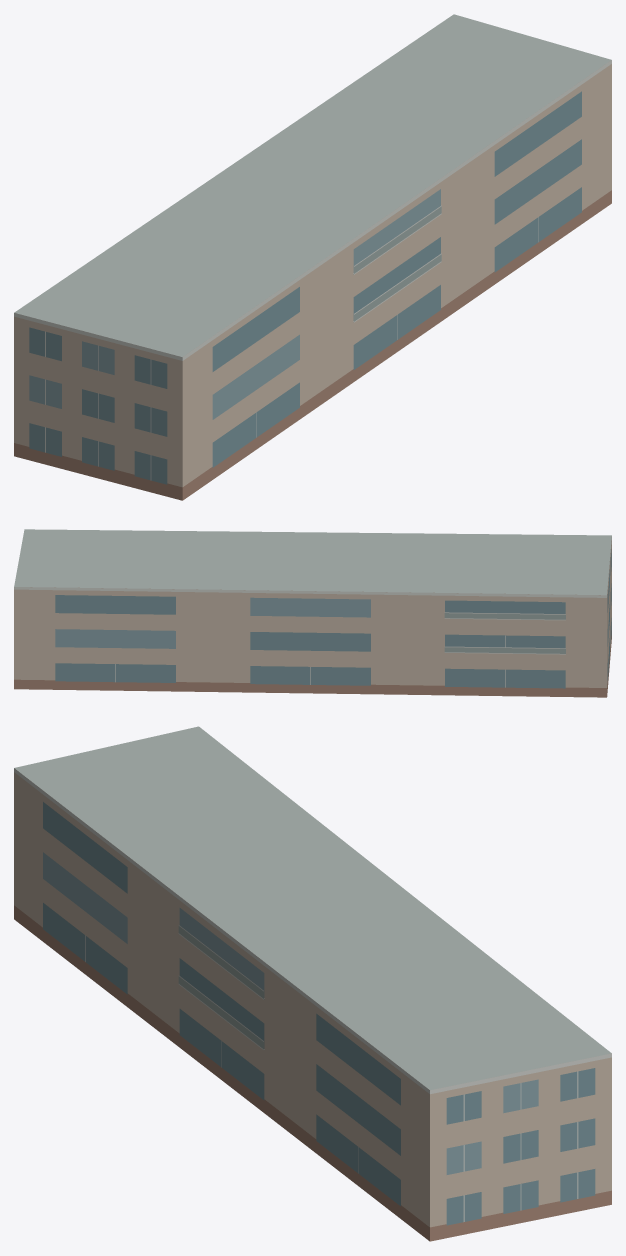
Rendered from survey-upis-32607584.glb.
3 renders of one model, top to bottom at view 1: azimuth 30°, elevation 25°; view 2: azimuth 150°, elevation 25°; view 3: azimuth 270°, elevation 25°, orthographic. The views are drawn at different scales.
Parts seen in each view (by area): view 1: survey-upis-32607584.tmp; view 2: survey-upis-32607584.tmp; view 3: survey-upis-32607584.tmp.
Part boxes in pixels (<box>): survey-upis-32607584.tmp: <box>14,14,611,500</box>; survey-upis-32607584.tmp: <box>14,529,611,697</box>; survey-upis-32607584.tmp: <box>14,726,611,1241</box>.
Bounding box in the file's own units: 47.2 × 9.15 × 32.78.
